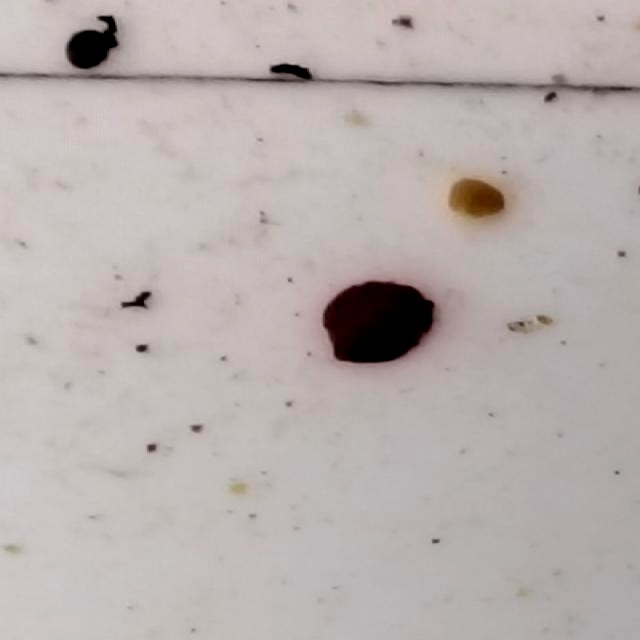varroa: (62, 29, 110, 72)
